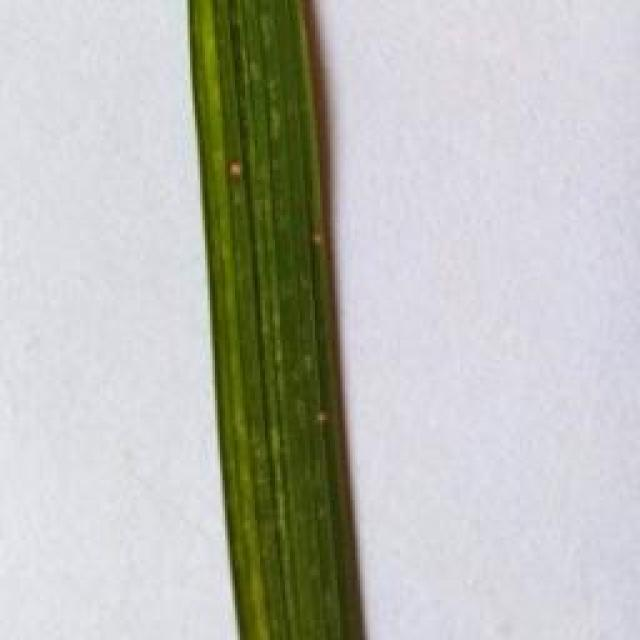Unhealthy: (226, 159, 244, 179), (312, 229, 325, 244), (315, 409, 328, 421)
